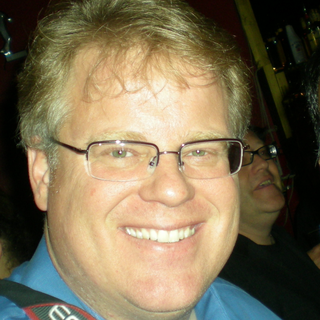eye: (97, 142, 143, 168), (178, 144, 214, 162)
